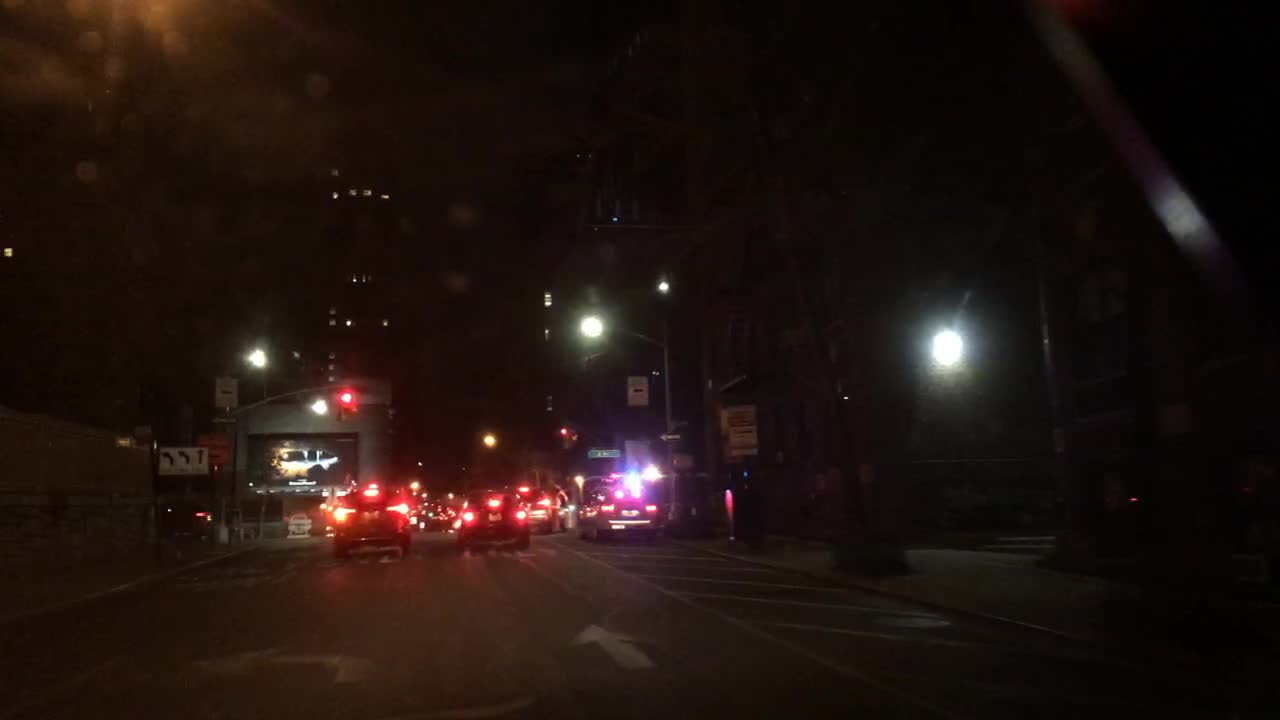car: (333, 488, 413, 559), (574, 483, 662, 541), (457, 489, 532, 553), (523, 488, 573, 532), (410, 503, 455, 531), (194, 506, 240, 533)
traffic light: (339, 390, 353, 416)
traffic sign: (729, 406, 758, 457), (158, 448, 208, 476), (197, 434, 233, 465), (217, 376, 238, 410), (628, 375, 648, 408), (588, 449, 621, 459), (210, 415, 238, 425), (673, 453, 691, 467), (557, 427, 569, 445), (661, 434, 682, 444), (568, 429, 579, 447), (669, 419, 689, 427)
